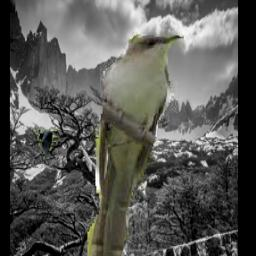Crow: (37, 130, 61, 156)
Cuckoo: (87, 33, 184, 256)
